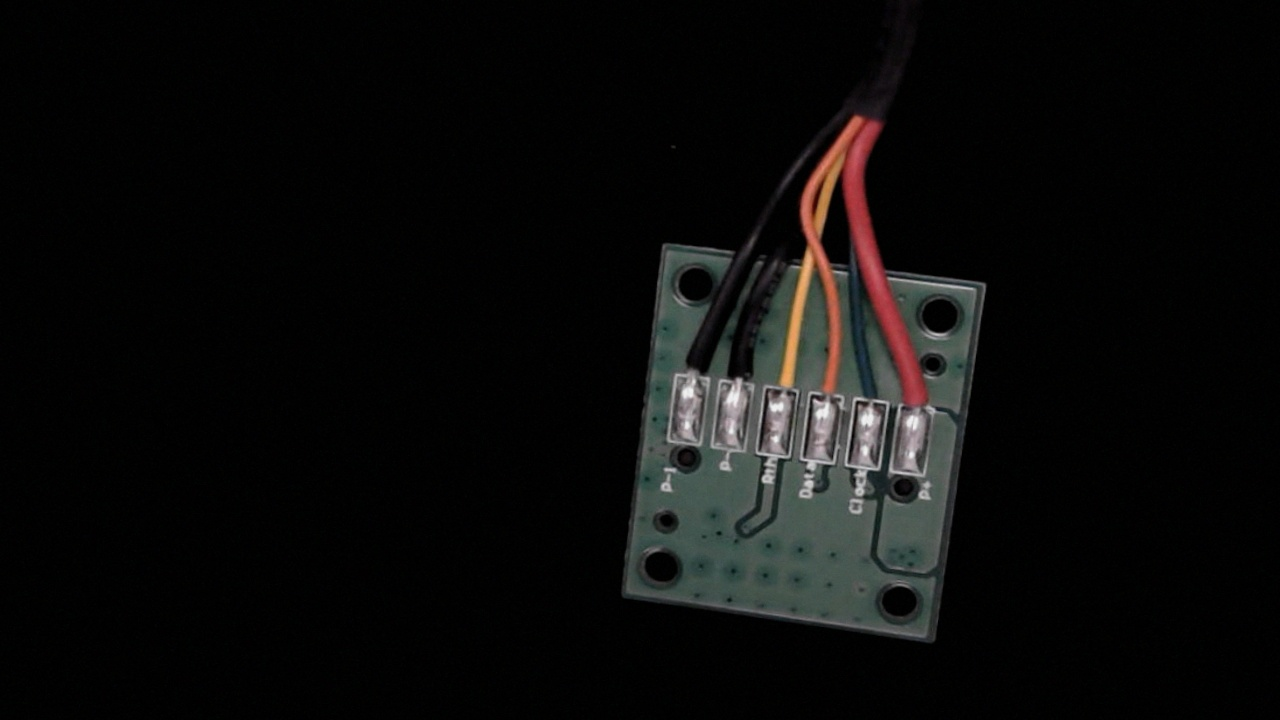Black: (714, 315, 766, 401)
Black1: (666, 320, 716, 400)
Green: (847, 345, 899, 423)
Orange: (804, 329, 856, 414)
Red: (893, 344, 945, 427)
Yellow: (756, 324, 809, 411)
